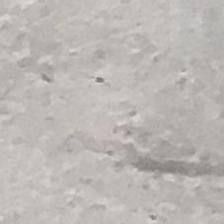Non_Crack: (10, 11, 224, 140)
